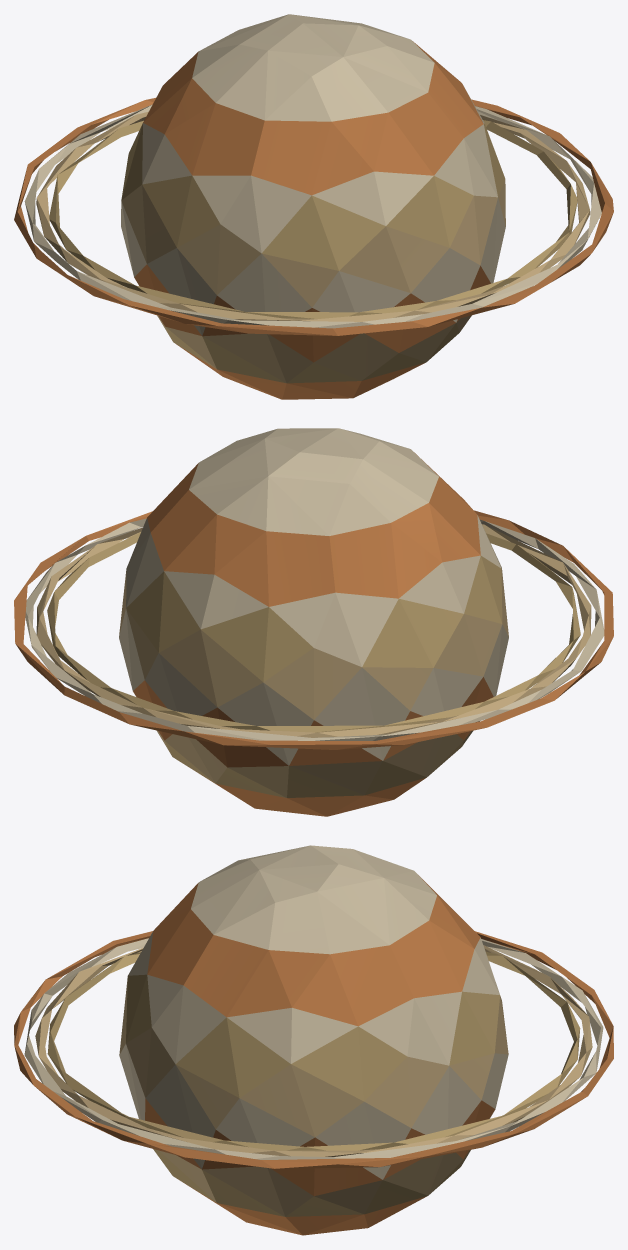
File: space-planet-gas.lod2.glb
3 renders of one model, top to bottom at view 1: azimuth 30°, elevation 25°; view 2: azimuth 150°, elevation 25°; view 3: azimuth 270°, elevation 25°, orthographic.
Visible parts, largest first — view 1: space-planet-gas__body; view 2: space-planet-gas__body; view 3: space-planet-gas__body.
Part boxes in pixels (x1,y1,x2,y2): space-planet-gas__body: (14, 14, 613, 399); space-planet-gas__body: (14, 428, 613, 816); space-planet-gas__body: (14, 845, 613, 1235).
Size of the model in its own units: 6.18 by 4 by 6.16.
